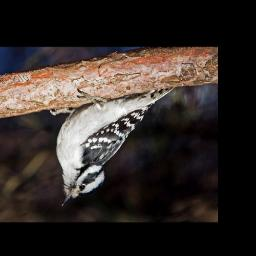Woodpecker: (46, 87, 174, 209)
